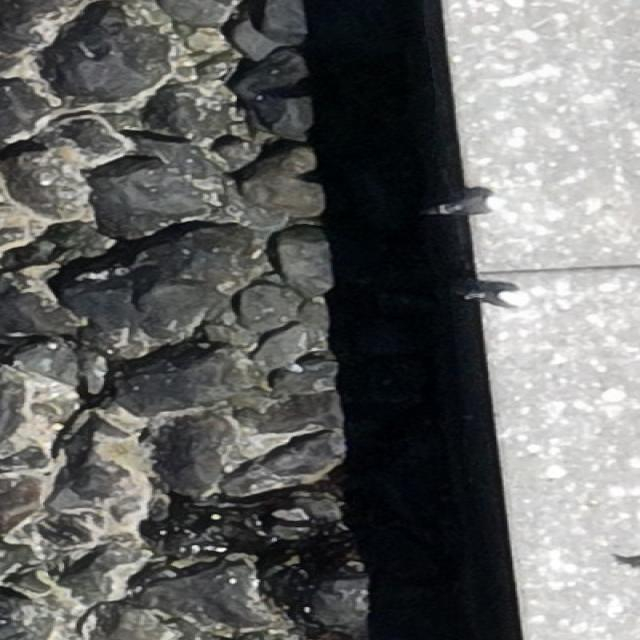umineko: (428, 191, 506, 221), (448, 284, 531, 308)
